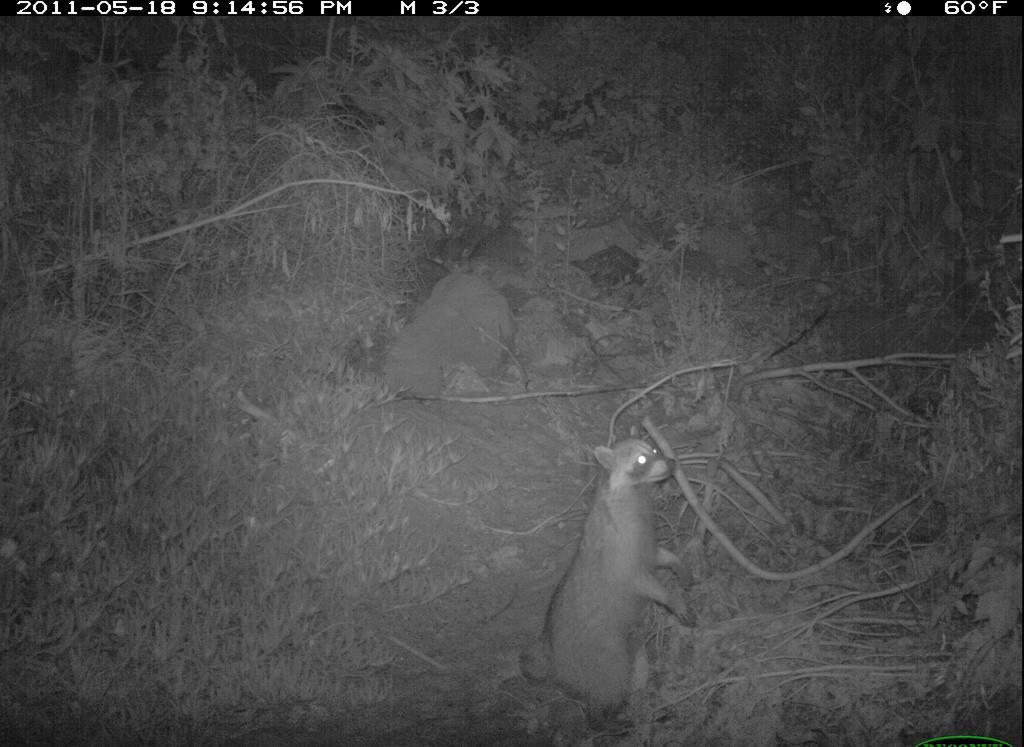raccoon: (520, 434, 701, 742)
